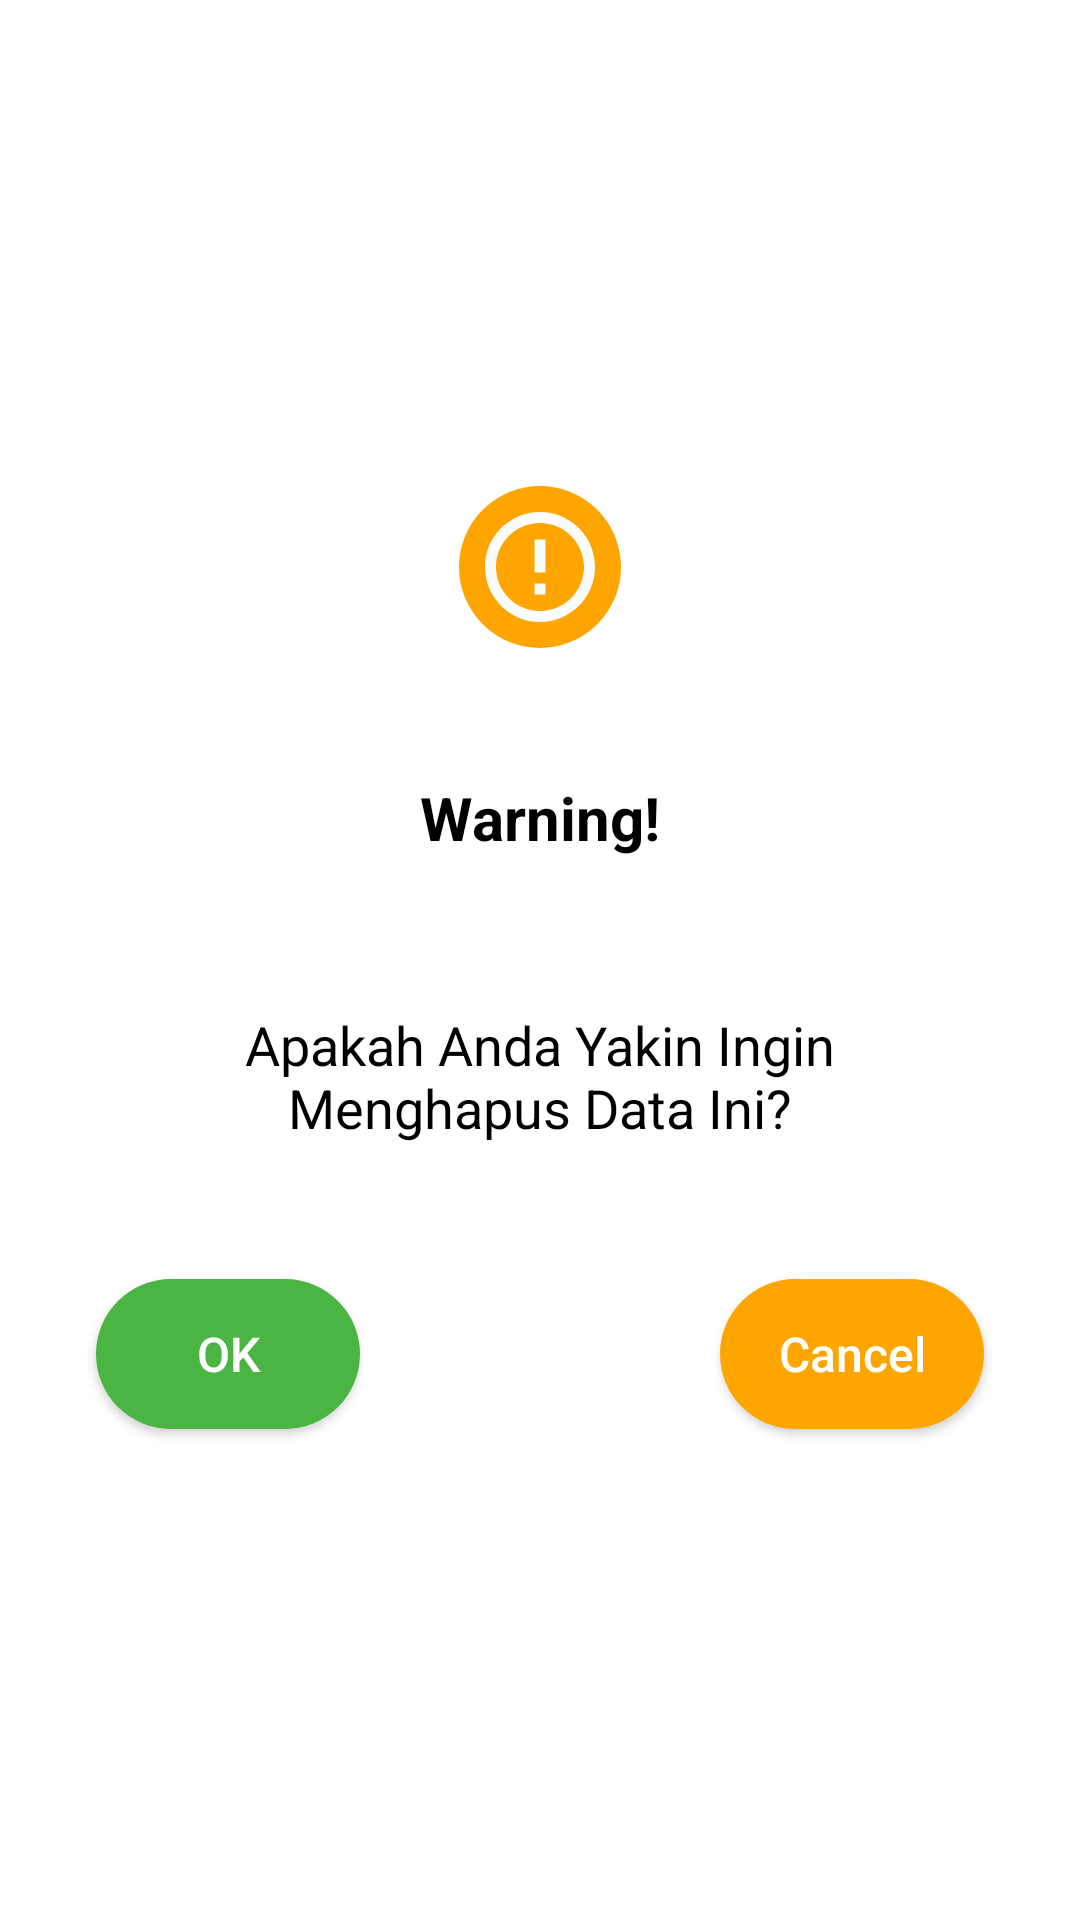

Where icons sit on this 1080*1920 app screen, as region(x1, y1, x2, y2):
err: region(459, 486, 621, 648)
